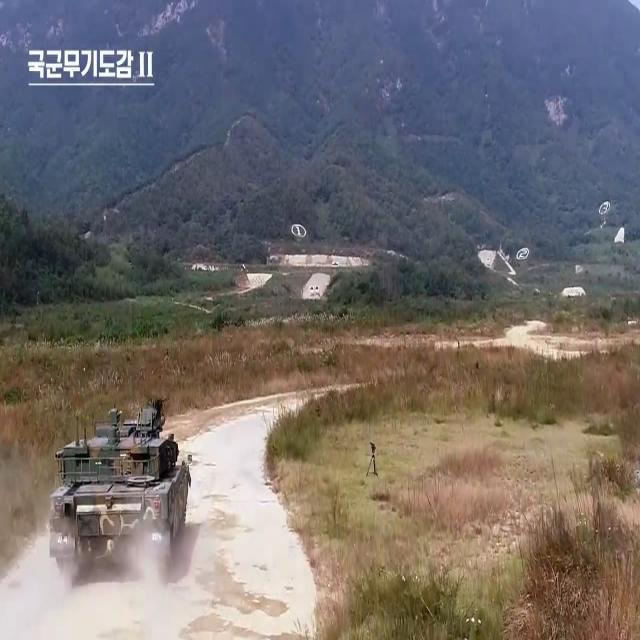korea tank: (46, 391, 197, 587)
